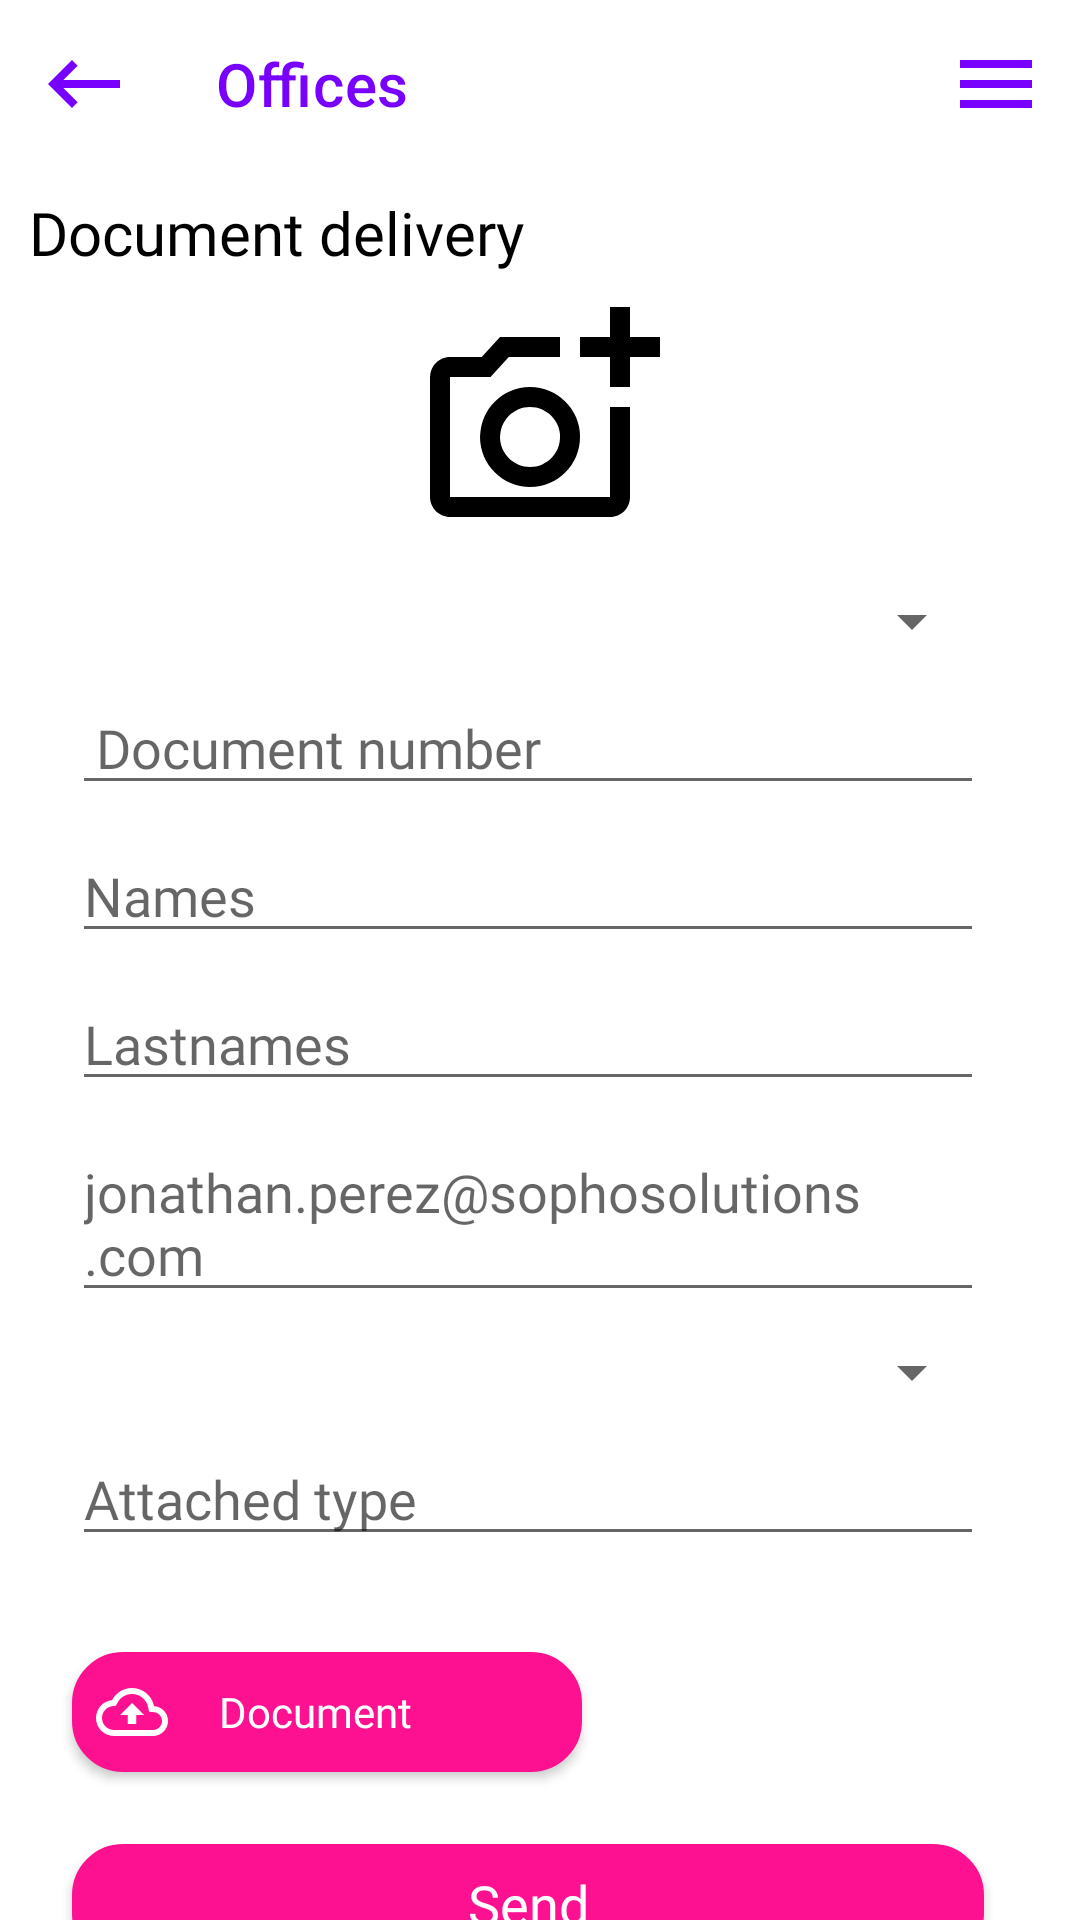

Icon bounding boxes for this 1080x1920 phone screenshot, format (x1=x1, y1=y1, x2=x2, y2=y2):
menu: (x1=960, y1=60, x2=1032, y2=108)
